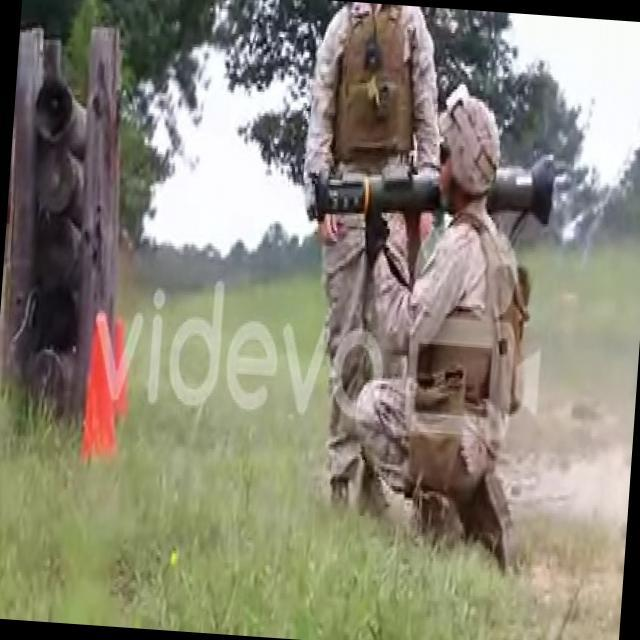rocket: (302, 136, 560, 236)
